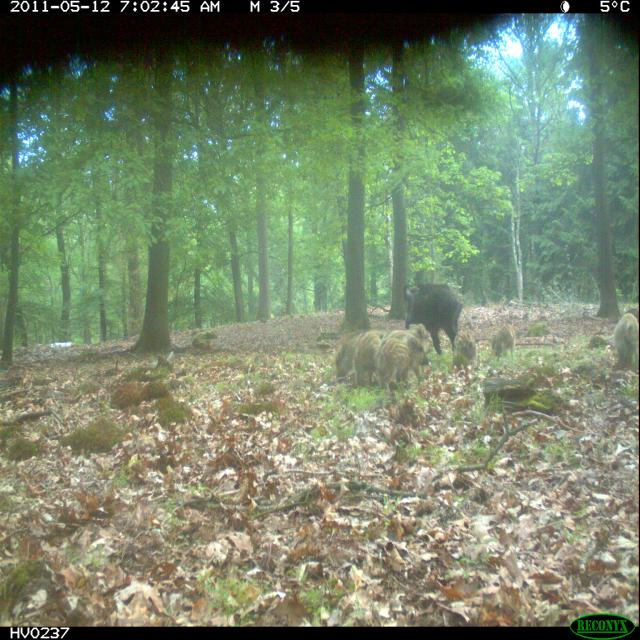boar: (322, 304, 442, 409), (382, 264, 484, 354), (600, 297, 640, 376), (352, 330, 397, 390), (479, 314, 526, 364), (379, 336, 412, 388), (450, 329, 480, 376)
